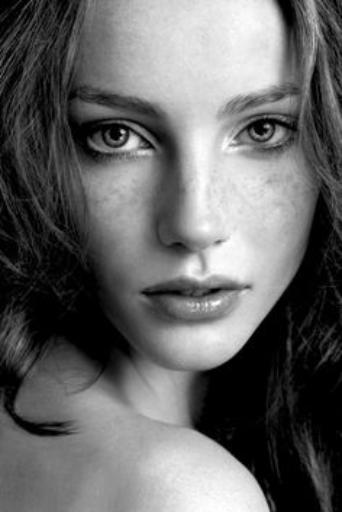left_eye: (231, 115, 297, 151)
left_lip_corner: (234, 278, 257, 303)
right_eye: (77, 119, 162, 156)
right_lip_corner: (138, 284, 163, 308)
